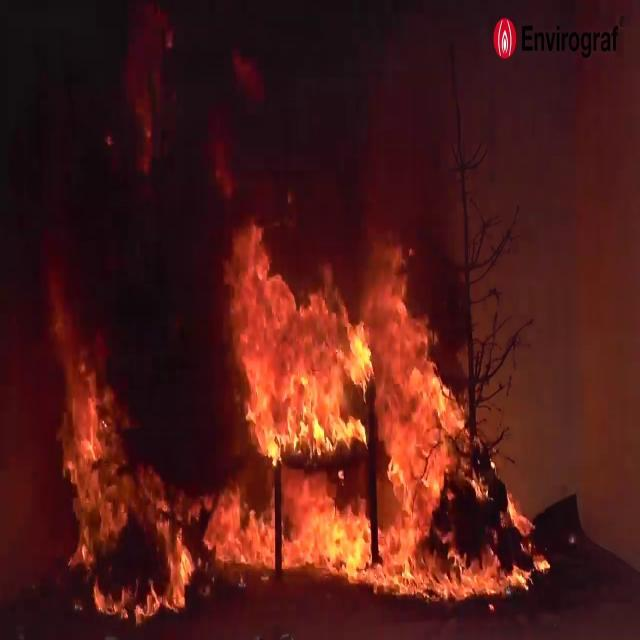Fire: (211, 212, 521, 598), (36, 302, 200, 628)
Smoke: (0, 2, 246, 476)
